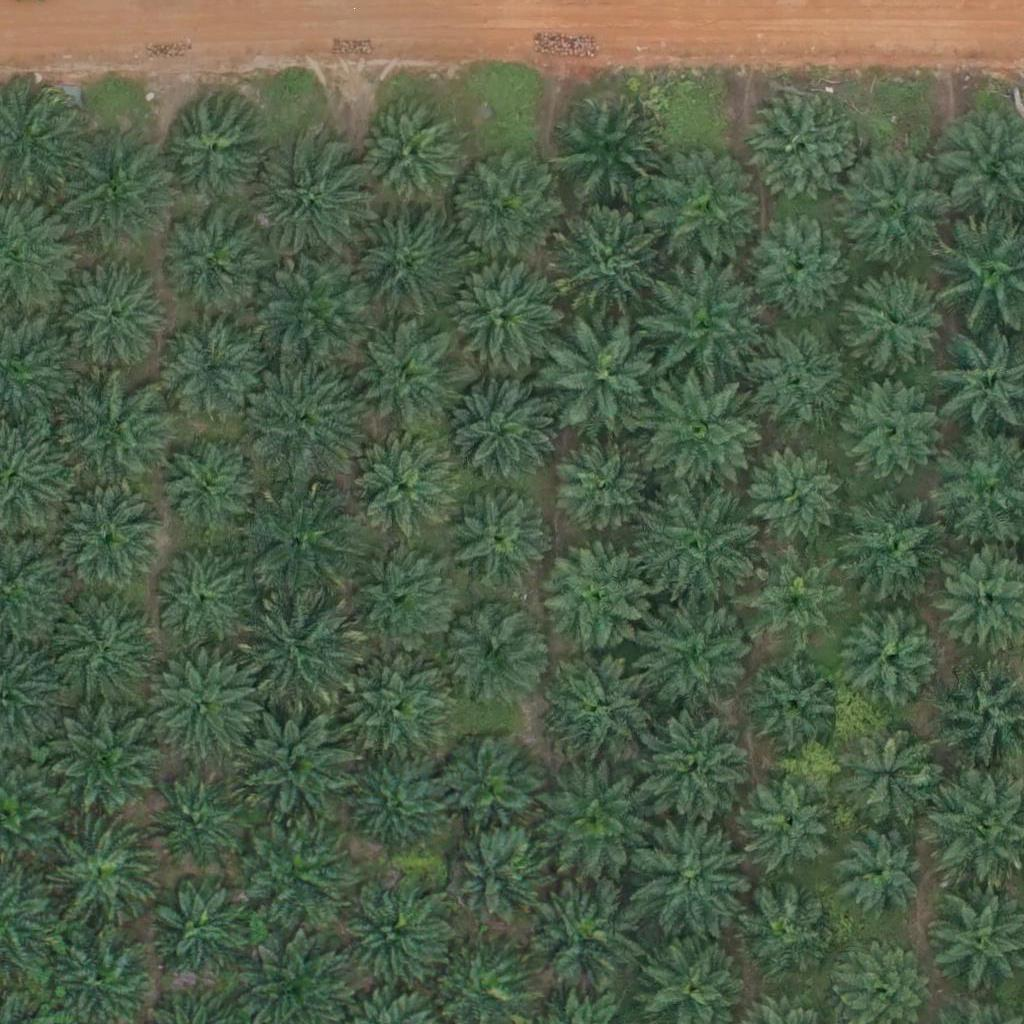Kelapa_Sawit: (649, 372, 762, 486), (546, 316, 659, 430), (354, 321, 467, 435), (241, 714, 354, 828), (135, 875, 248, 989), (47, 482, 160, 596), (41, 815, 154, 929), (837, 487, 950, 600), (746, 94, 859, 207), (644, 155, 757, 268), (629, 831, 742, 944), (536, 763, 649, 876), (543, 647, 656, 760), (535, 536, 648, 649), (447, 151, 560, 264), (448, 255, 561, 368), (441, 487, 554, 600), (436, 595, 549, 708), (433, 729, 546, 842), (334, 653, 447, 766), (345, 210, 458, 323), (259, 256, 372, 369), (239, 360, 352, 473), (157, 203, 270, 316), (50, 139, 163, 252), (51, 260, 164, 373), (44, 600, 157, 713), (843, 151, 955, 265), (644, 601, 756, 715), (352, 429, 464, 543), (155, 93, 267, 207), (47, 707, 159, 821), (737, 322, 849, 435), (647, 270, 759, 383), (643, 490, 755, 603), (640, 707, 752, 820), (526, 888, 638, 1001), (556, 91, 668, 204), (549, 202, 661, 315), (442, 380, 554, 493), (346, 873, 458, 986), (345, 541, 457, 654), (253, 144, 365, 257), (246, 484, 358, 597), (247, 597, 359, 710), (239, 824, 351, 937), (148, 650, 260, 763), (66, 372, 178, 485), (845, 267, 945, 368), (845, 613, 945, 714), (841, 724, 941, 825), (748, 648, 848, 749), (742, 440, 842, 541), (747, 208, 847, 309), (449, 826, 549, 927), (348, 762, 448, 863), (355, 104, 455, 205), (150, 775, 250, 876), (150, 542, 250, 643), (163, 326, 263, 427), (844, 378, 944, 478), (741, 772, 841, 872), (747, 547, 847, 647), (551, 436, 651, 536), (157, 441, 257, 541), (739, 886, 827, 974), (835, 830, 922, 918)
